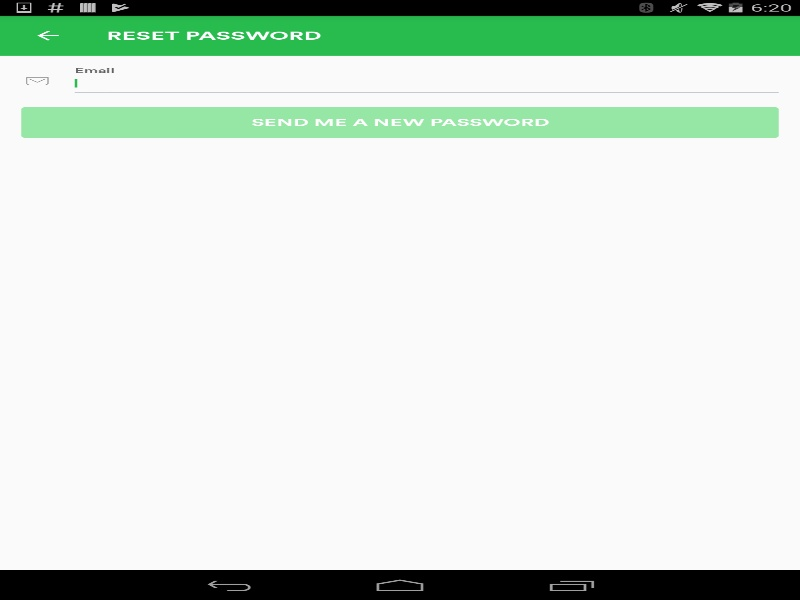Button: (21, 106, 778, 138), (10, 15, 85, 55)
Input: (74, 72, 778, 93)
